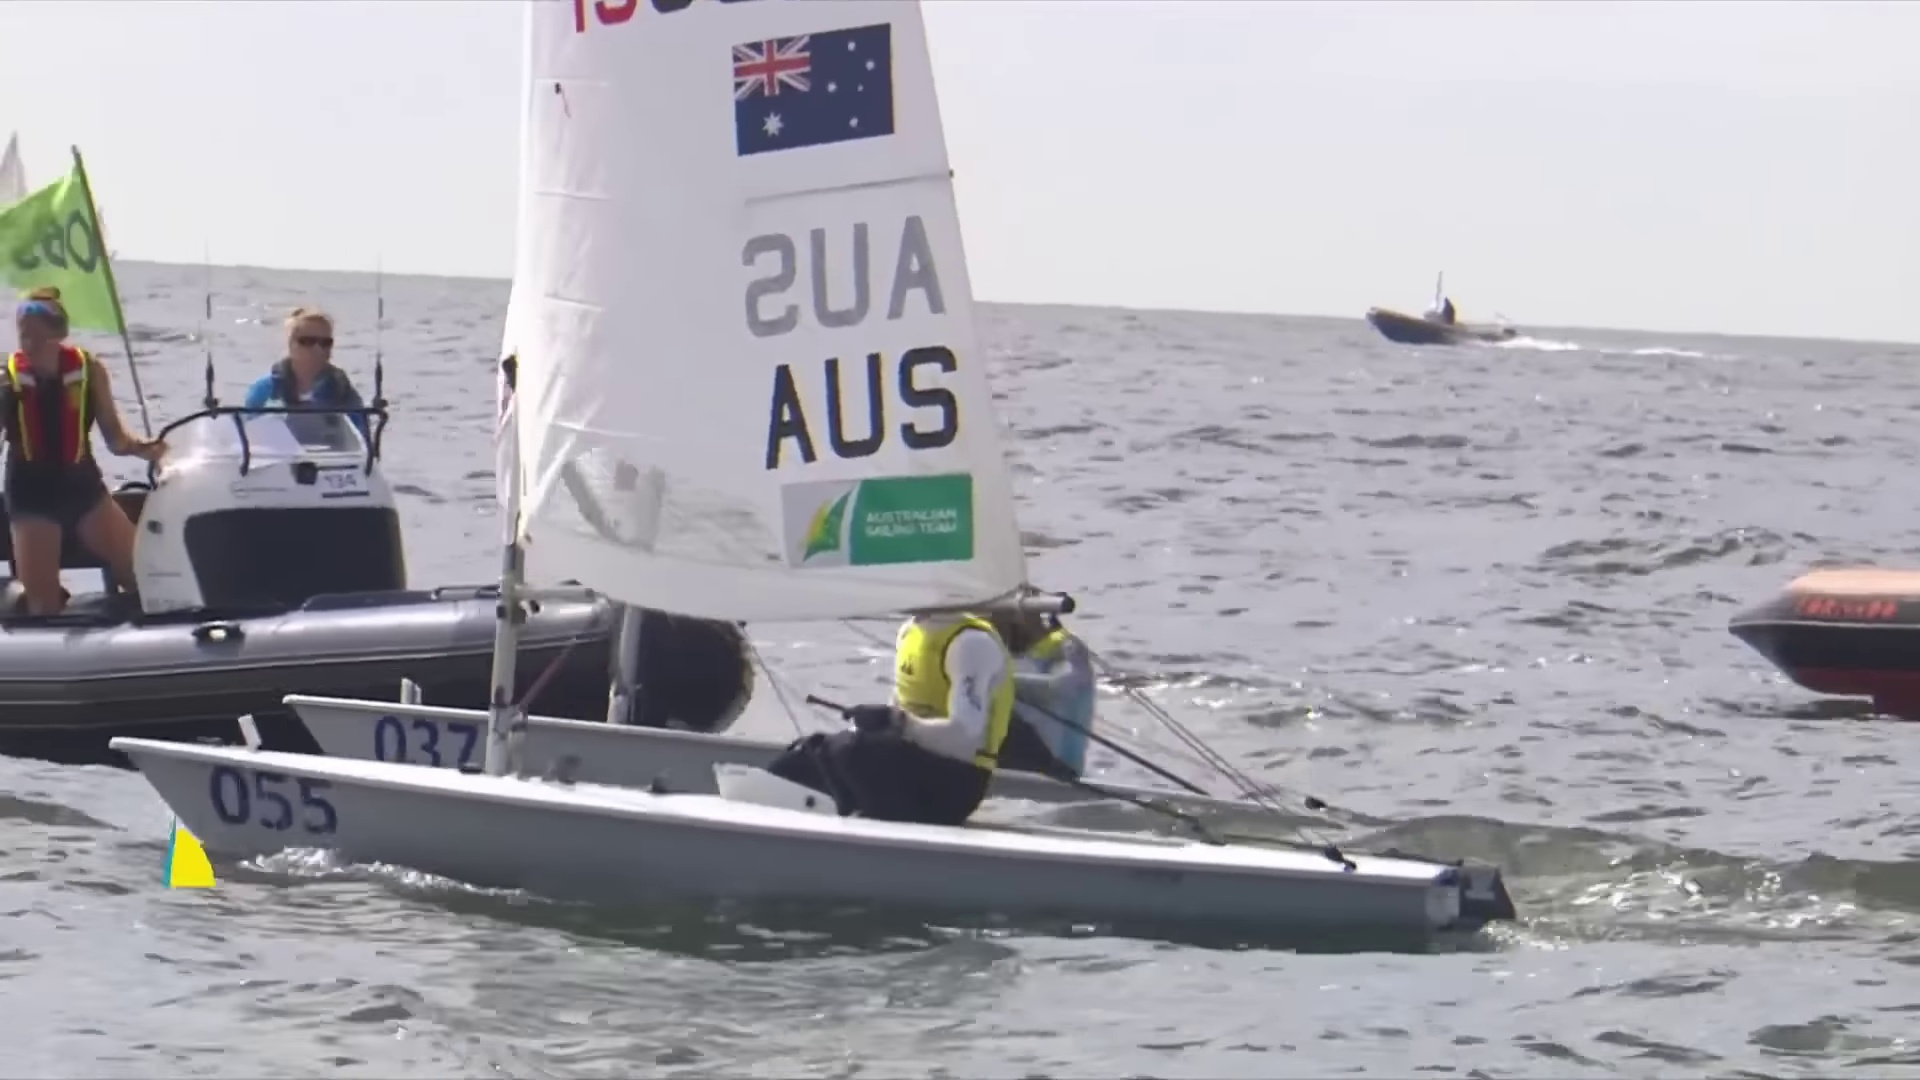pennon: (551, 78, 579, 120)
